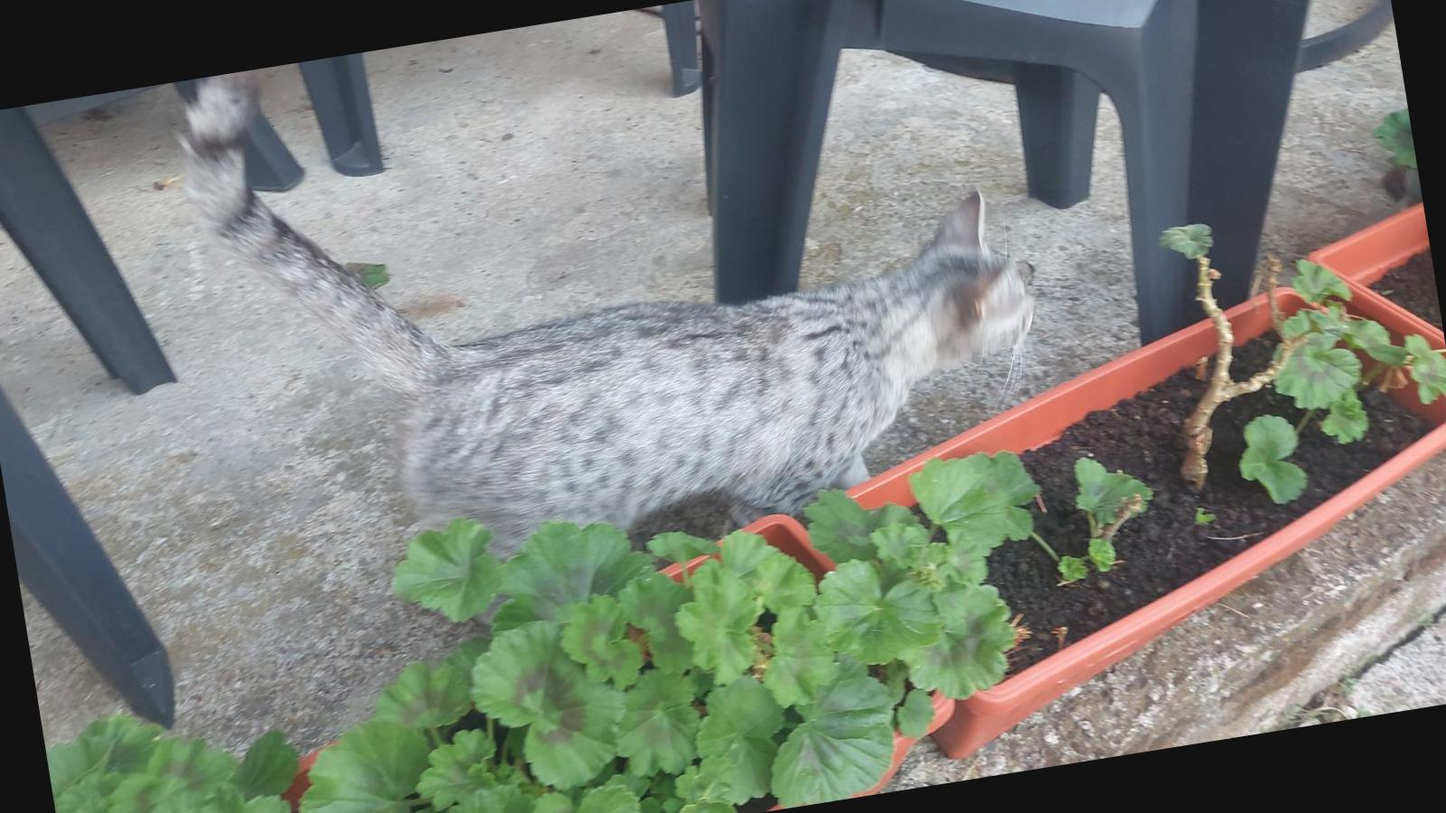macka: (163, 0, 1083, 672)
